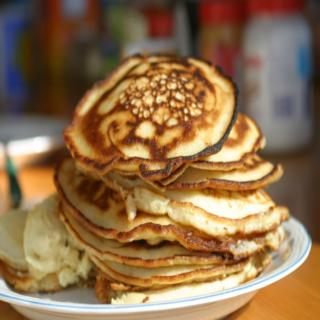Pancake: (53, 109, 290, 296), (61, 50, 237, 176), (0, 189, 84, 292)
